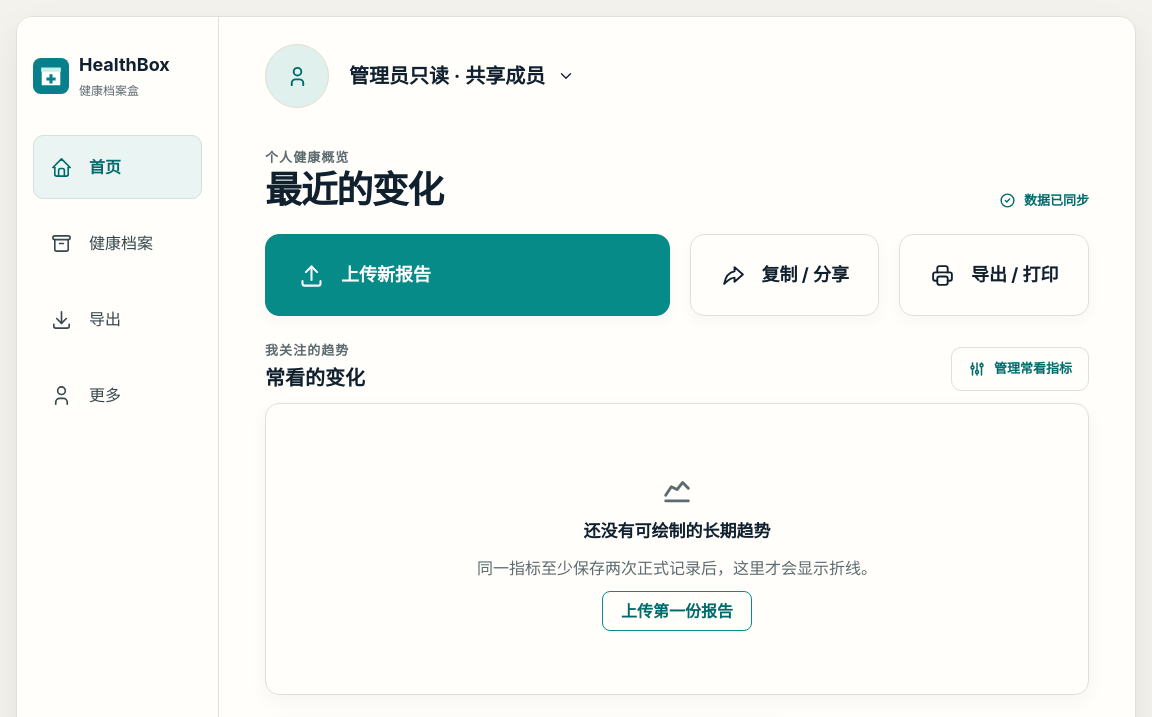
Test: HouseholdHealthPrototype › keeps a committed report inside the merged metric archive
Step 1. Click the button "健康档案" → (118,243), box [33, 211, 202, 275]
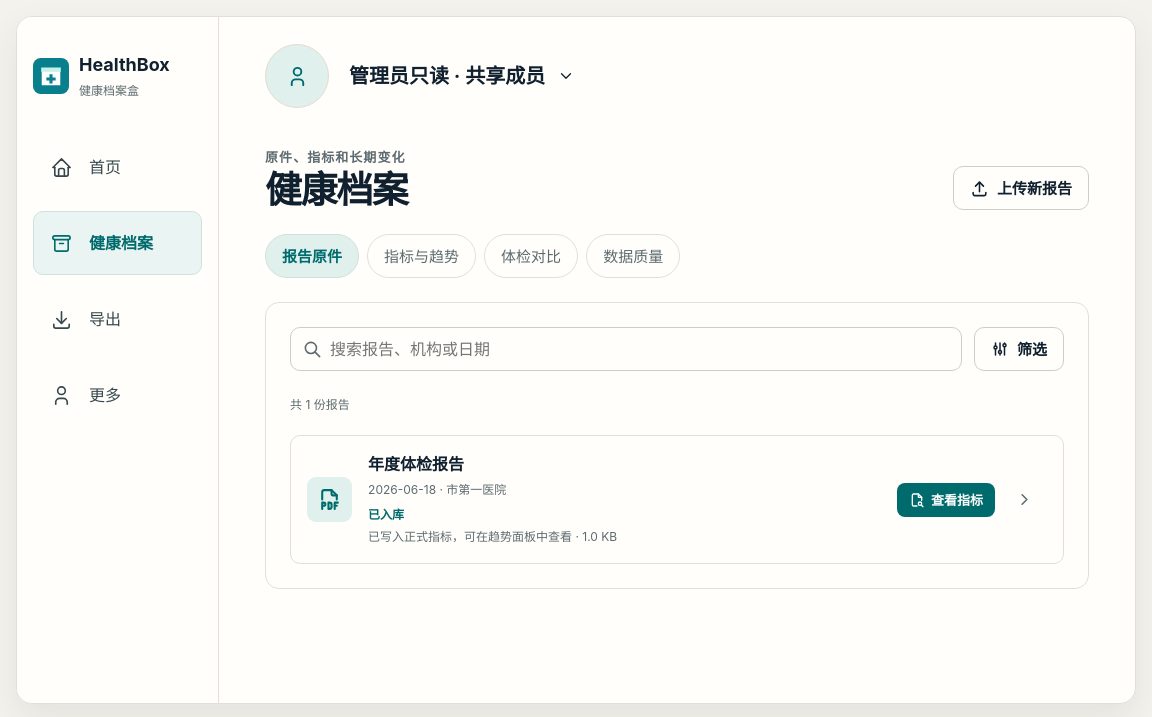
Step 2. Click the button "查看指标" → (946,500), box [897, 483, 995, 517]
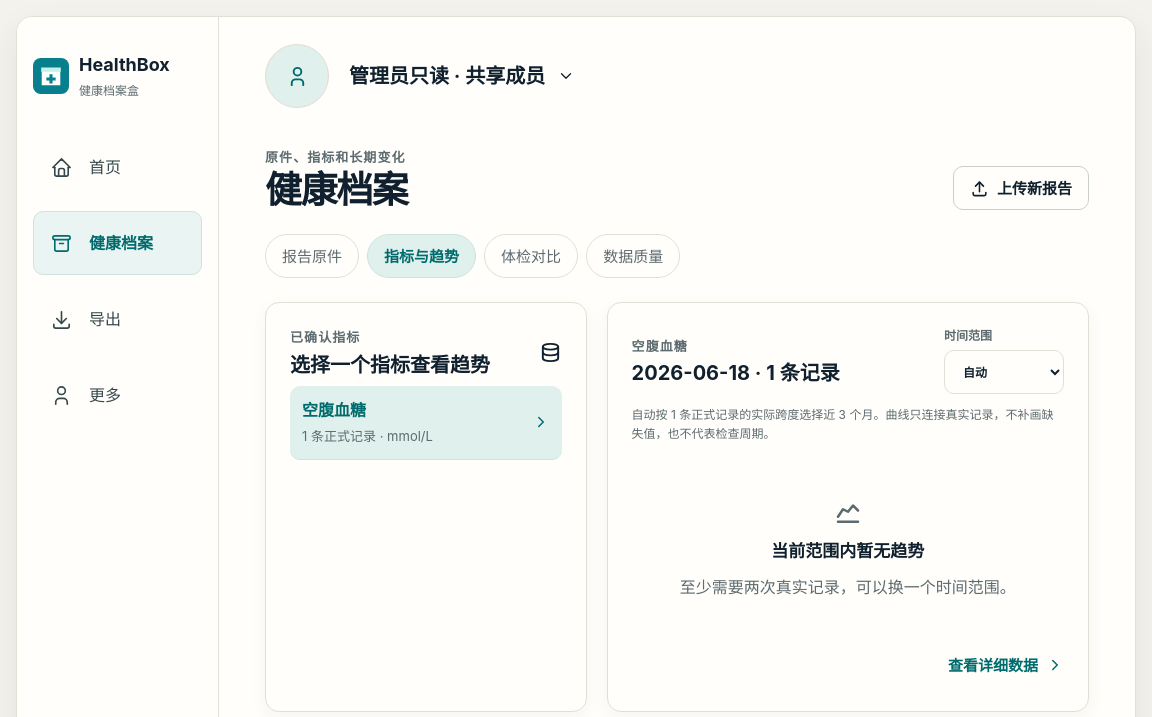
Result: the tab "指标与趋势" is shown at [367, 234, 476, 278]
Result: the heading "选择一个指标查看趋势" is shown at [290, 352, 490, 378]
